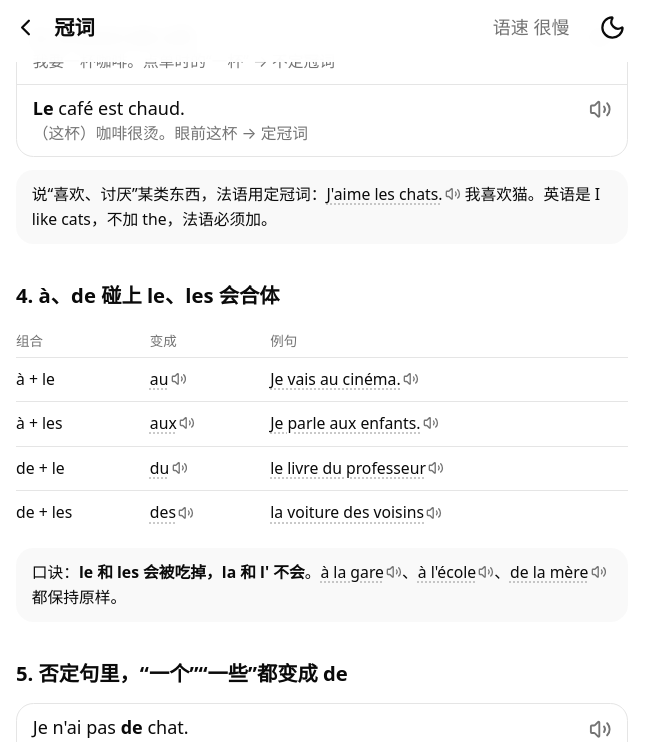
Scenario: 音标与朗读 › 系统没有法语声音时不拿别的语言的声音硬读，而是说清楚原因
(page scrolled)
Click the button with aria-label "朗读 au" at (168, 378), box [148,368,189,390]
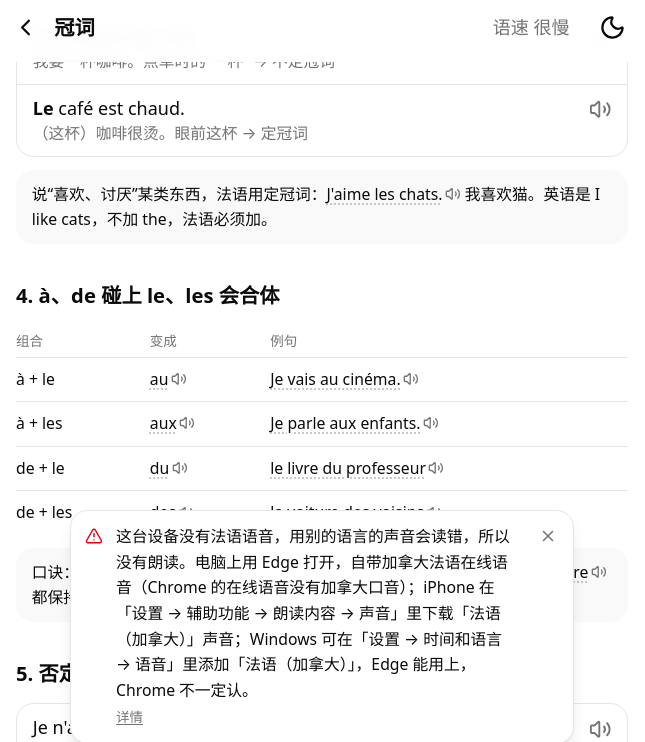
Check: the message shows "这台设备没有法语语音", box [116,525,510,701]
